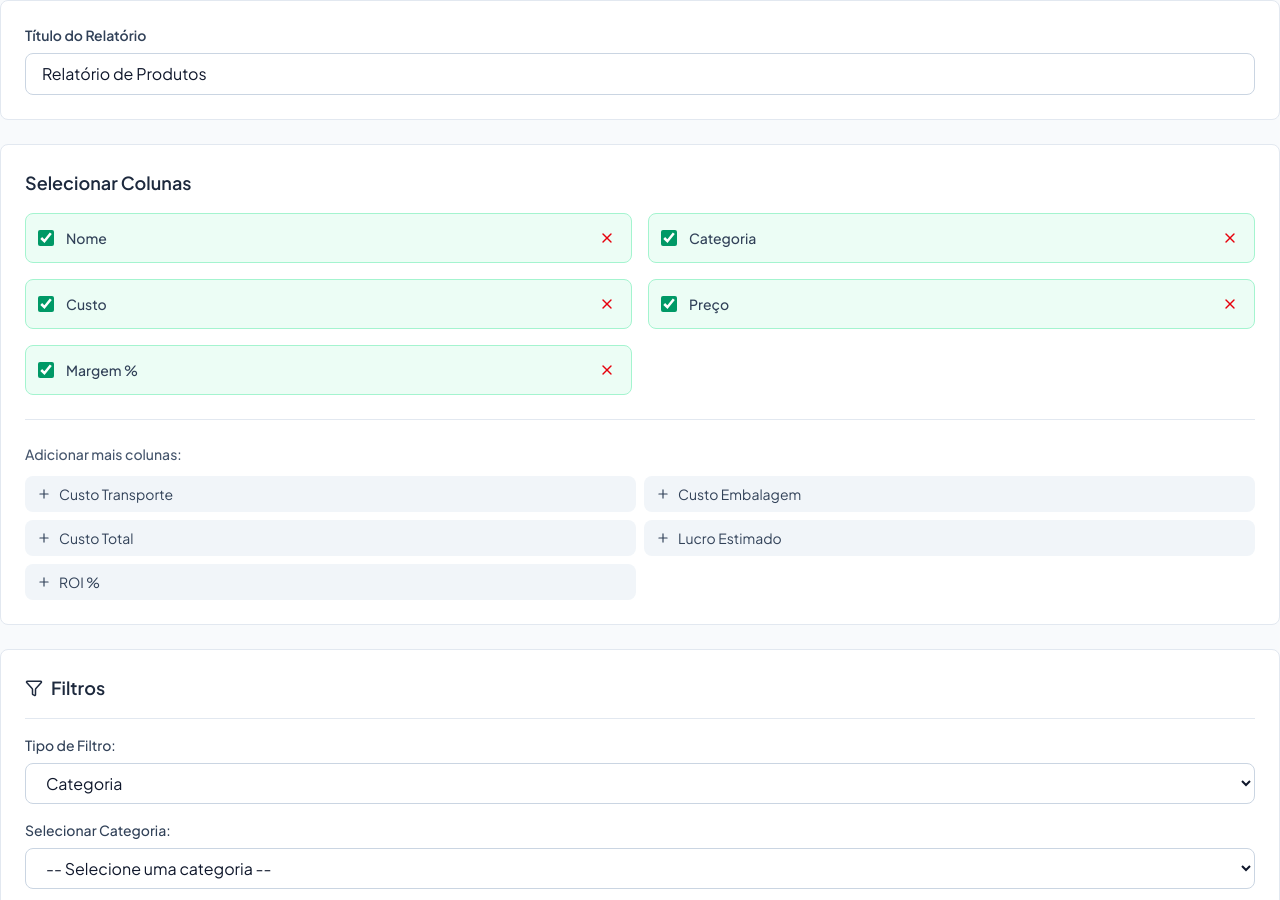
Test: ReportBuilder - Filter Functionality › Filter UI Rendering › should show margin range inputs when margin filter type selected
This screenshot has width=1280, height=900.
Select "Faixa de Margem" in the dropdown below "Tipo de Filtro:" at (640, 784), box left=25, top=763, right=1255, bottom=804
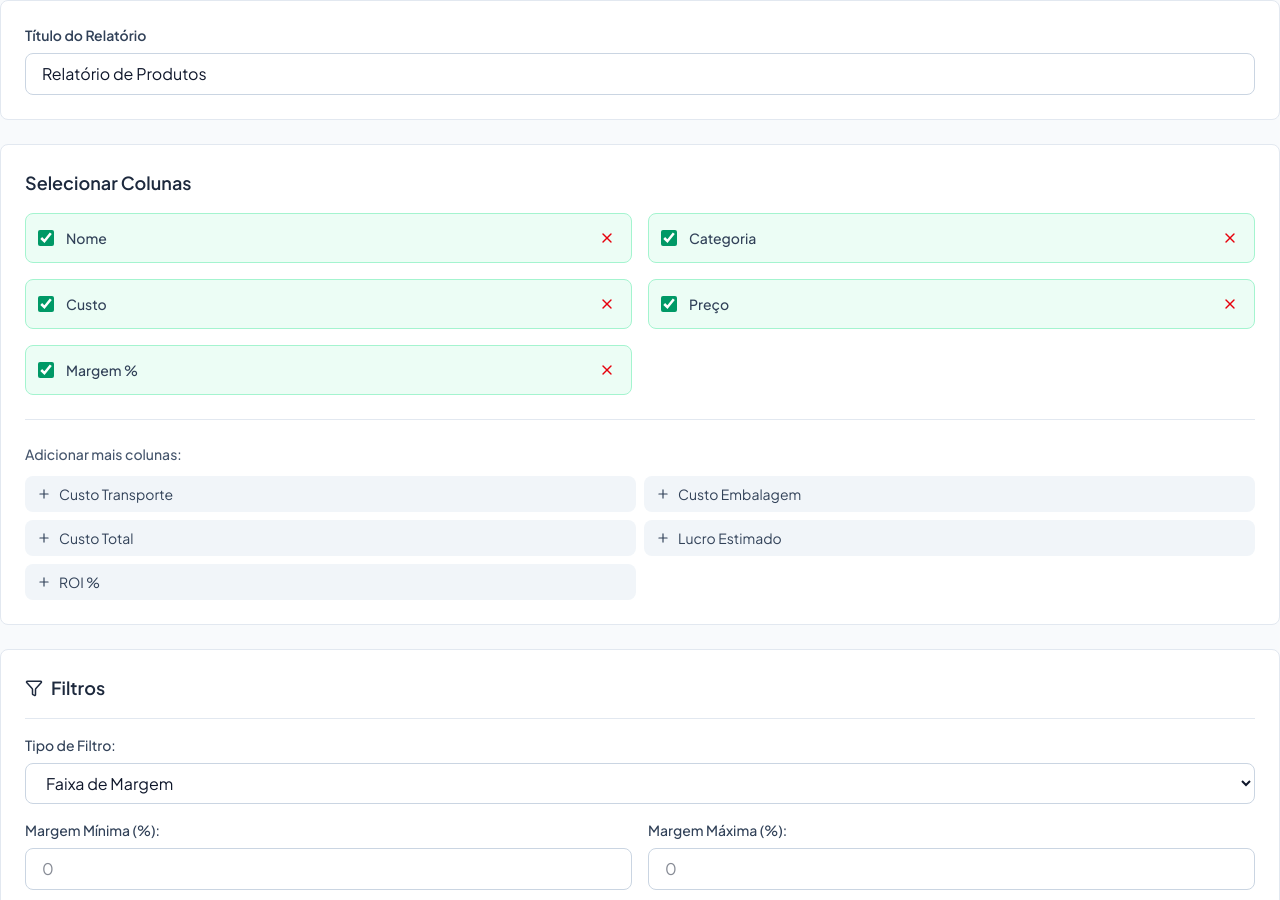
Now the number field labelled "Margem Mínima (%):" is shown, box left=25, top=848, right=632, bottom=890
Now the number field labelled "Margem Máxima (%):" is shown, box left=648, top=848, right=1255, bottom=890
